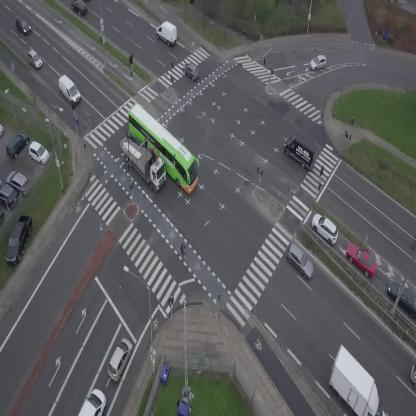bicycle: (177, 242, 190, 262)
bus: (116, 102, 210, 195)
car: (341, 238, 383, 282), (103, 336, 137, 384), (281, 242, 320, 282), (306, 209, 344, 247), (78, 389, 106, 416), (23, 47, 45, 72), (180, 59, 203, 82), (12, 15, 34, 37), (308, 54, 328, 72)
lorry: (313, 344, 398, 416), (111, 129, 176, 193), (278, 129, 324, 173), (54, 73, 85, 105), (152, 18, 183, 48)
